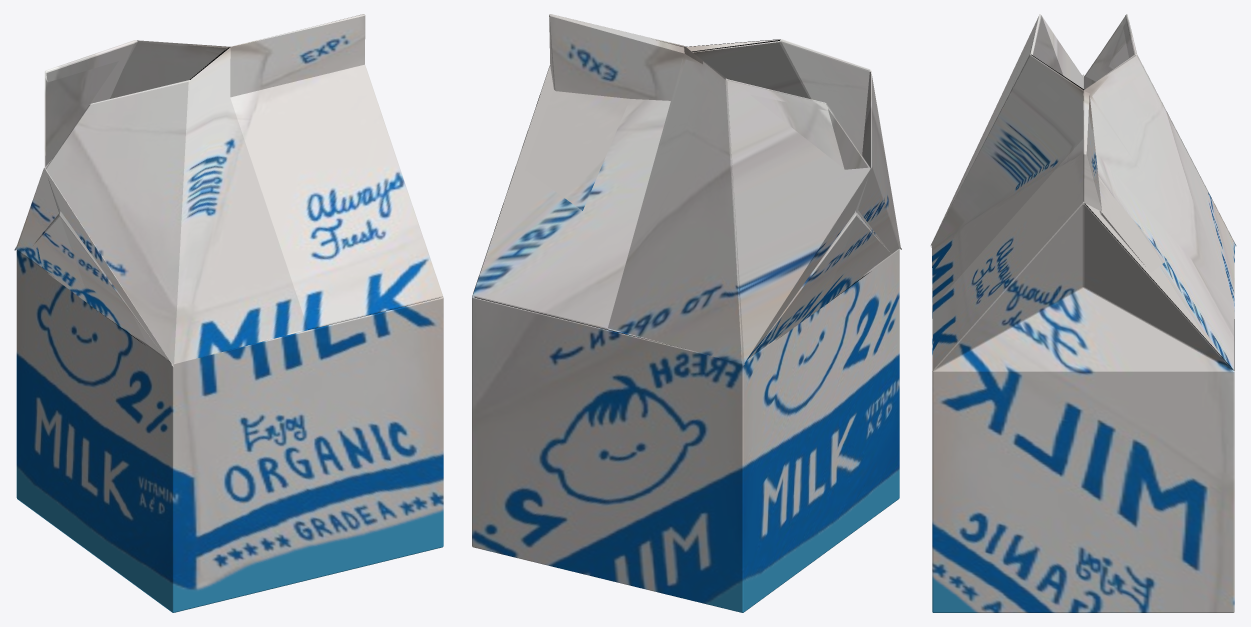
Rendered from carton-milk.glb.
3 views of the same model, side by side, from view 1: azimuth 30°, elevation 25°; view 2: azimuth 150°, elevation 25°; view 3: azimuth 270°, elevation 25° (orthographic). The views are drawn at different scales.
Visible parts, largest first — view 1: MilkCarton; view 2: MilkCarton; view 3: MilkCarton.
Part boxes in pixels (bbox=[...]): MilkCarton: bbox=[14, 14, 443, 612]; MilkCarton: bbox=[472, 14, 901, 612]; MilkCarton: bbox=[930, 14, 1236, 612].
Bounding box in the file's own units: 0.0806 × 0.1149 × 0.069.
Materials: 1 (1 with a texture image).
